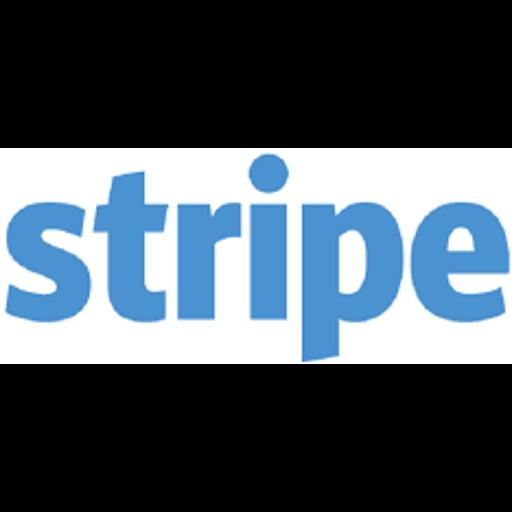Stripe: (0, 148, 512, 364)
